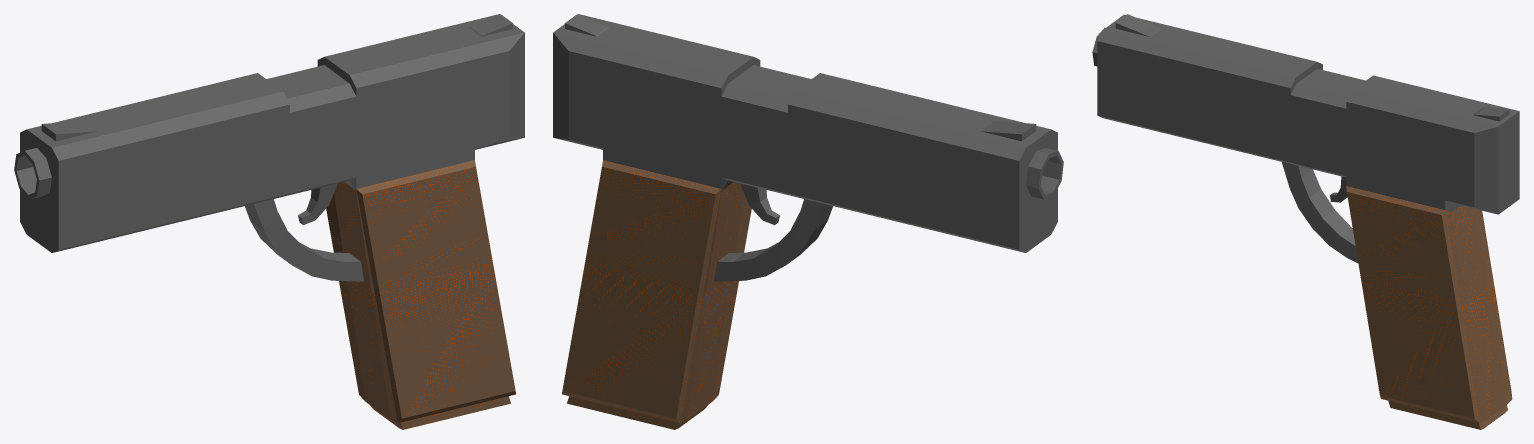
File: gun.fbx
3 views of the same model, side by side, from view 1: azimuth 30°, elevation 25°; view 2: azimuth 150°, elevation 25°; view 3: azimuth 330°, elevation 25° (orthographic). The views are drawn at different scales.
Parts seen in each view (by area): view 1: Cube; view 2: Cube; view 3: Cube.
Part boxes in pixels (<box>): Cube: <box>14,14,524,429</box>; Cube: <box>553,14,1063,429</box>; Cube: <box>1092,14,1519,429</box>.
Size of the model in its own units: 1210 by 887 by 190.
Materials: 1 (1 with a texture image).
